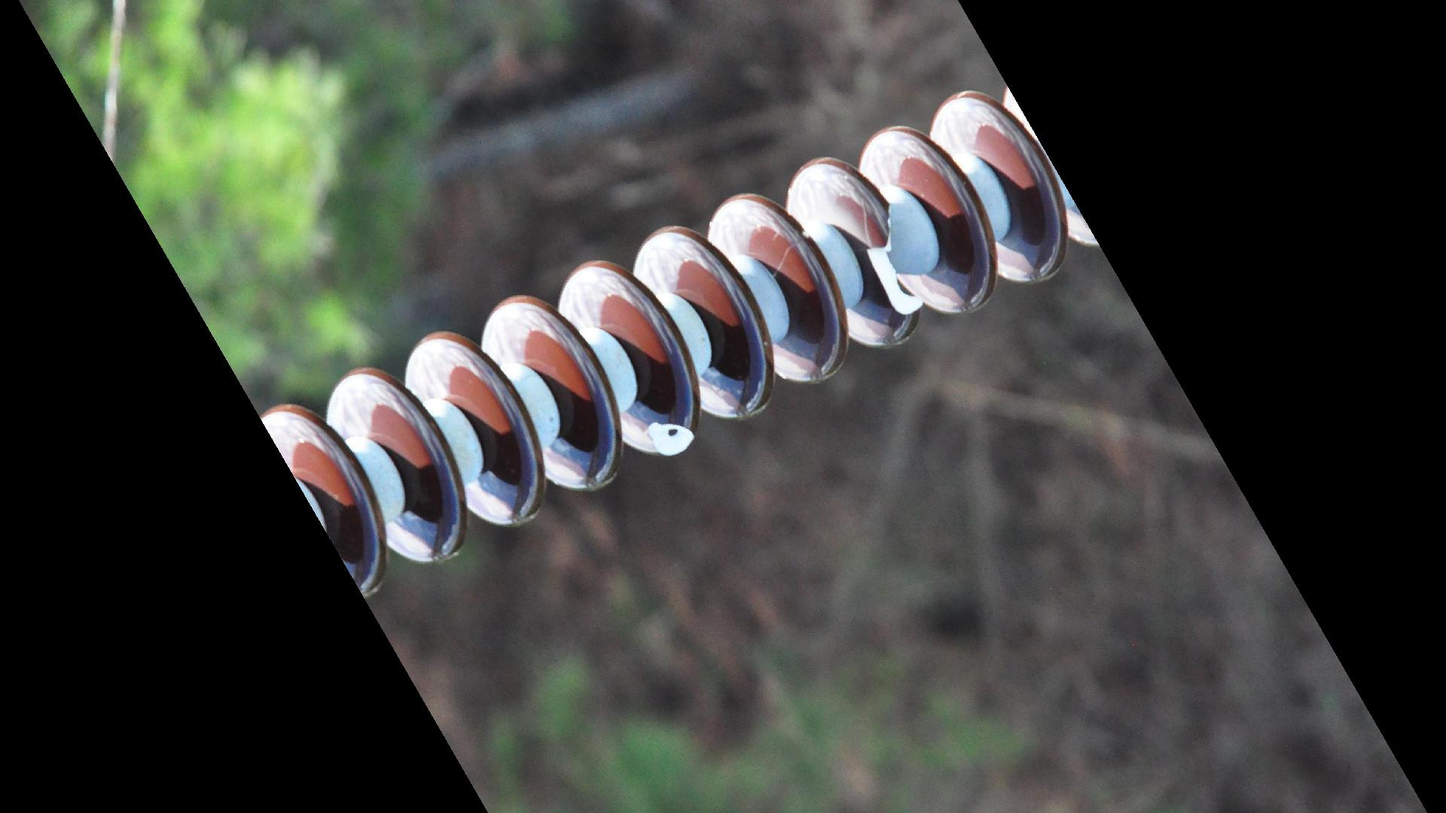insulator: (255, 82, 1113, 607)
insulator_breakage: (859, 196, 932, 321), (635, 406, 703, 464)
